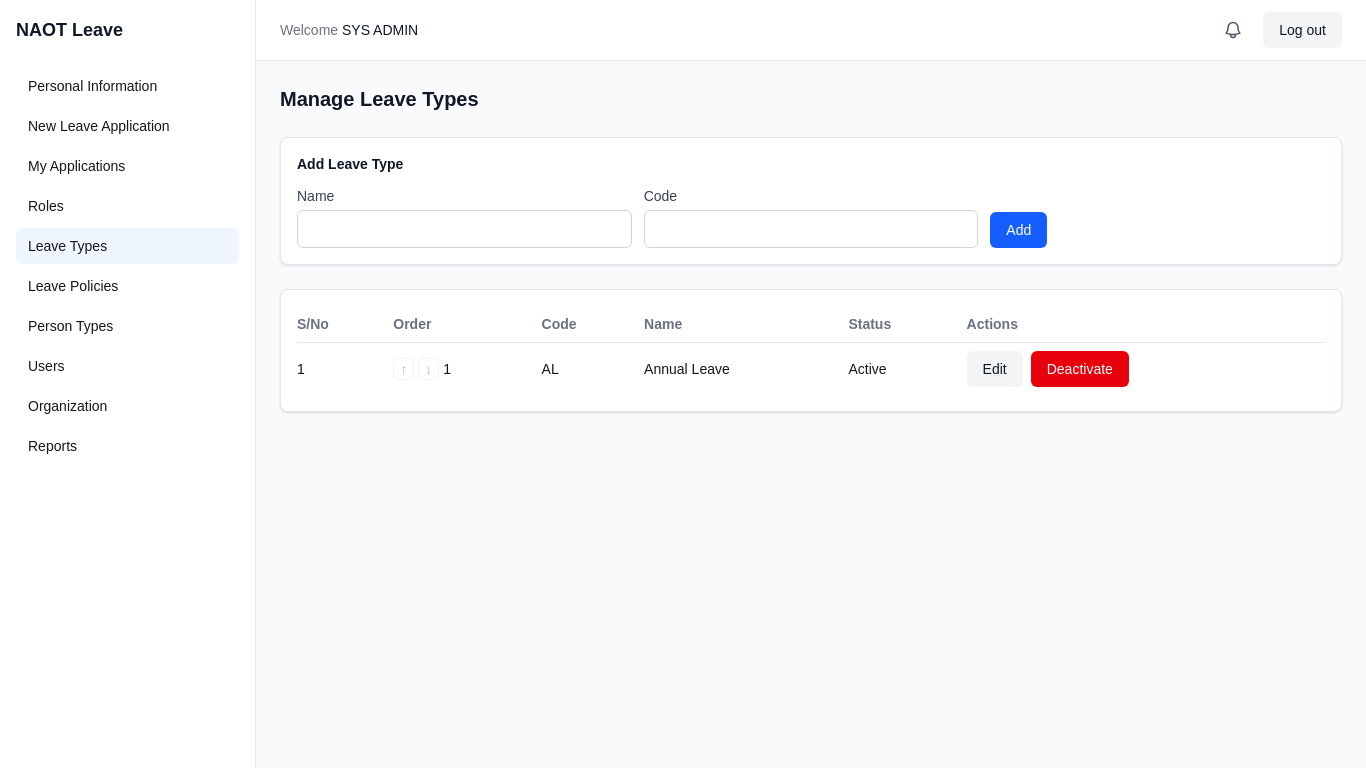
Test: AdminLeaveTypesPage › shows a visible error instead of crashing when the save is rejected
Check: the text "Annual Leave" is shown, box 644,342 -> 848,395
Click the button "Edit".
click(995, 369)  # box 967,351 -> 1023,387
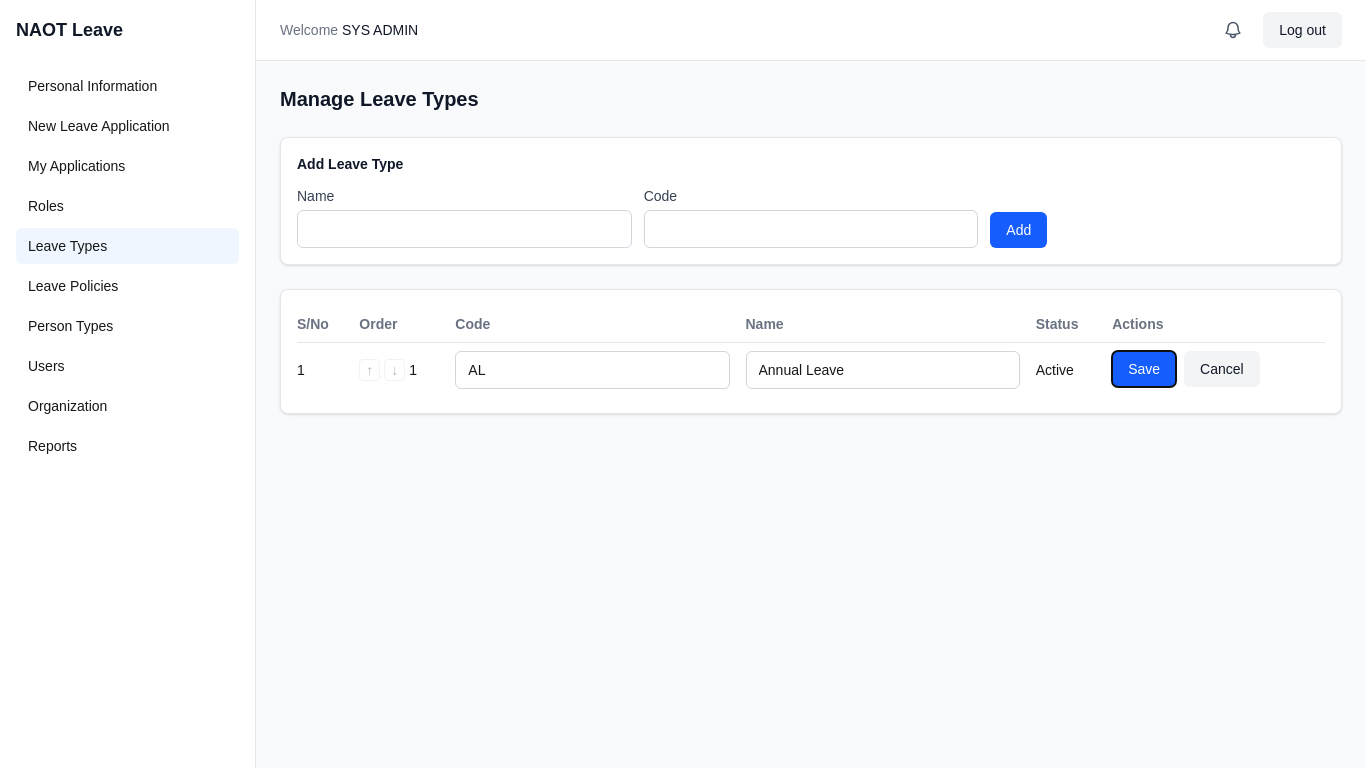
Click the button "Save".
click(1144, 369)  # box 1112,351 -> 1176,387
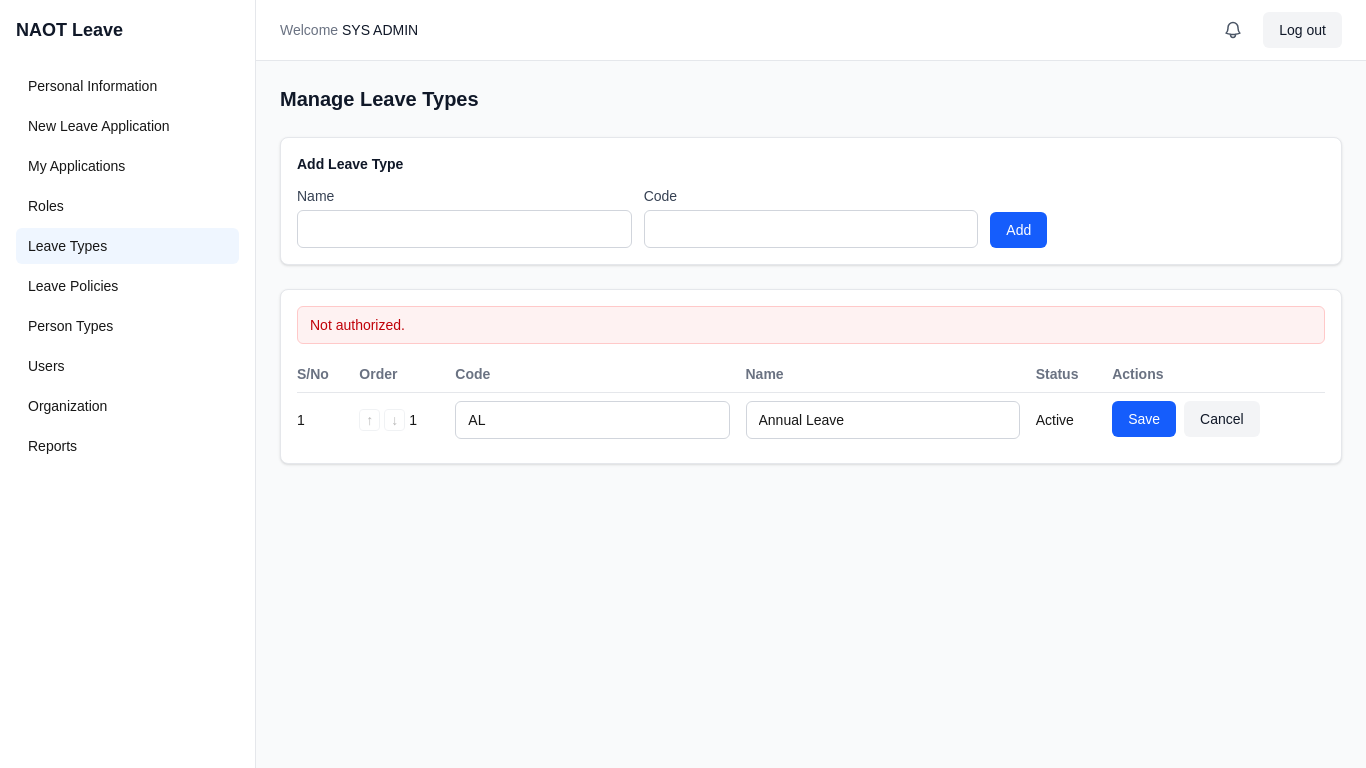
Check: the text "Not authorized." is shown, box 297,306 -> 1325,344
